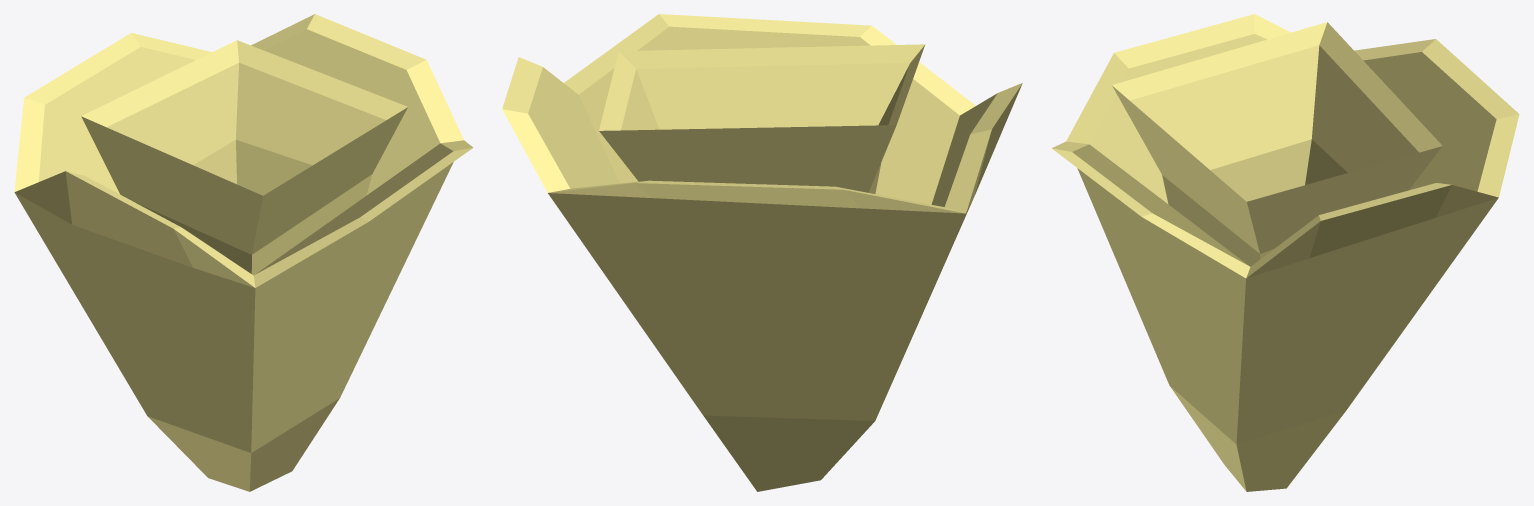
Rendered from flower_yellow.glb.
The picture shows the model from 3 angles, left to right: view 1: azimuth 30°, elevation 25°; view 2: azimuth 150°, elevation 25°; view 3: azimuth 270°, elevation 25°; orthographic projection. The views are drawn at different scales.
Visible parts, largest first — view 1: Icosphere; view 2: Icosphere; view 3: Icosphere.
Part boxes in pixels (x1,y1,x2,y2): Icosphere: (14,14,473,491); Icosphere: (502,14,1022,491); Icosphere: (1051,14,1519,491).
Bounding box in the file's own units: 0.0935 × 0.0829 × 0.0894.
